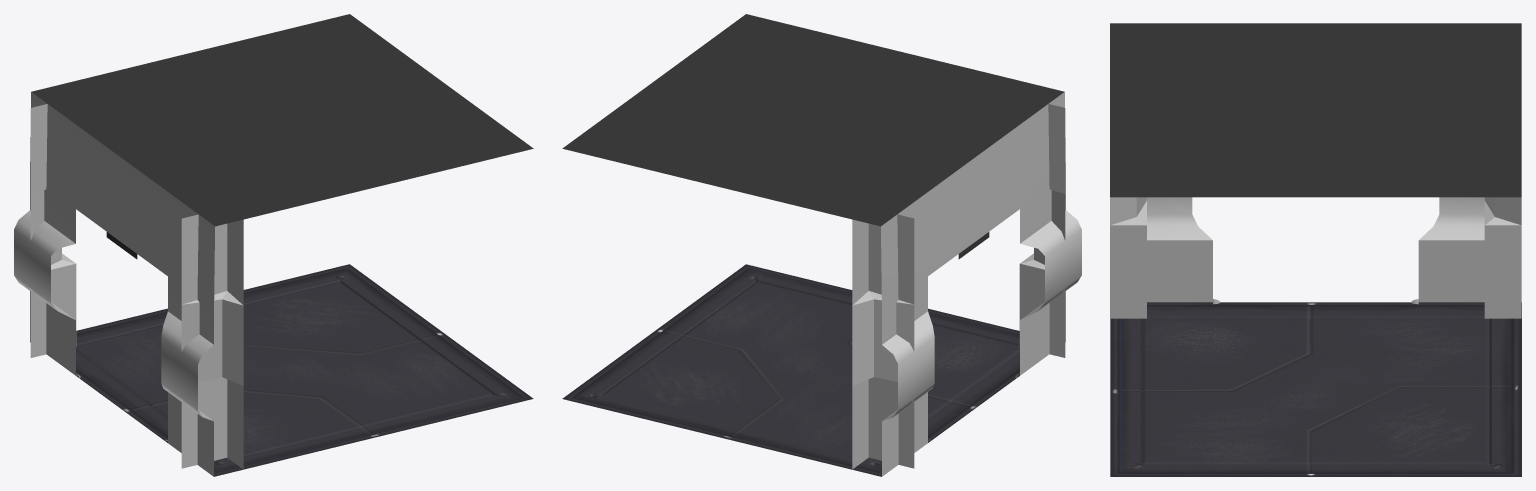
Rendered from chamberToHallway.fbx.
The picture shows the model from 3 angles, left to right: view 1: azimuth 30°, elevation 25°; view 2: azimuth 150°, elevation 25°; view 3: azimuth 270°, elevation 25°; orthographic projection. The views are drawn at different scales.
Visible parts, largest first — view 1: int_entrance; view 2: int_entrance; view 3: int_entrance.
Boxes of the visible parts, x1,y1,x2,y2 form: int_entrance: (14,14,533,476); int_entrance: (562,14,1081,476); int_entrance: (1110,23,1521,476).
Bounding box in the file's own units: 4.21 × 3.02 × 4.
